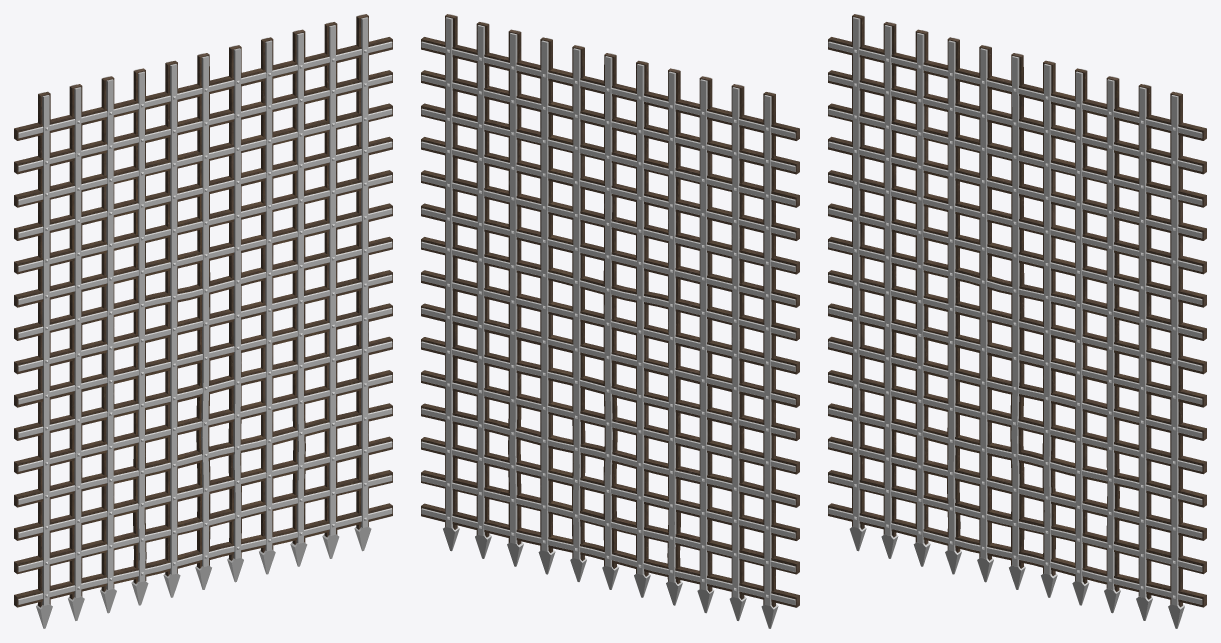
File: SM_Portcullis_01.fbx
The picture shows the model from 3 angles, left to right: view 1: azimuth 30°, elevation 25°; view 2: azimuth 150°, elevation 25°; view 3: azimuth 330°, elevation 25°; orthographic projection.
Parts seen in each view (by area): view 1: SM_Portcullis_01_LOD0; view 2: SM_Portcullis_01_LOD0; view 3: SM_Portcullis_01_LOD0.
Boxes of the visible parts, left/top/right/bottom form: SM_Portcullis_01_LOD0: left=14, top=14, right=392, bottom=628; SM_Portcullis_01_LOD0: left=421, top=14, right=799, bottom=628; SM_Portcullis_01_LOD0: left=828, top=14, right=1206, bottom=628.
Size of what is drawn, in the model's own units: 395 by 537 by 12.85.
